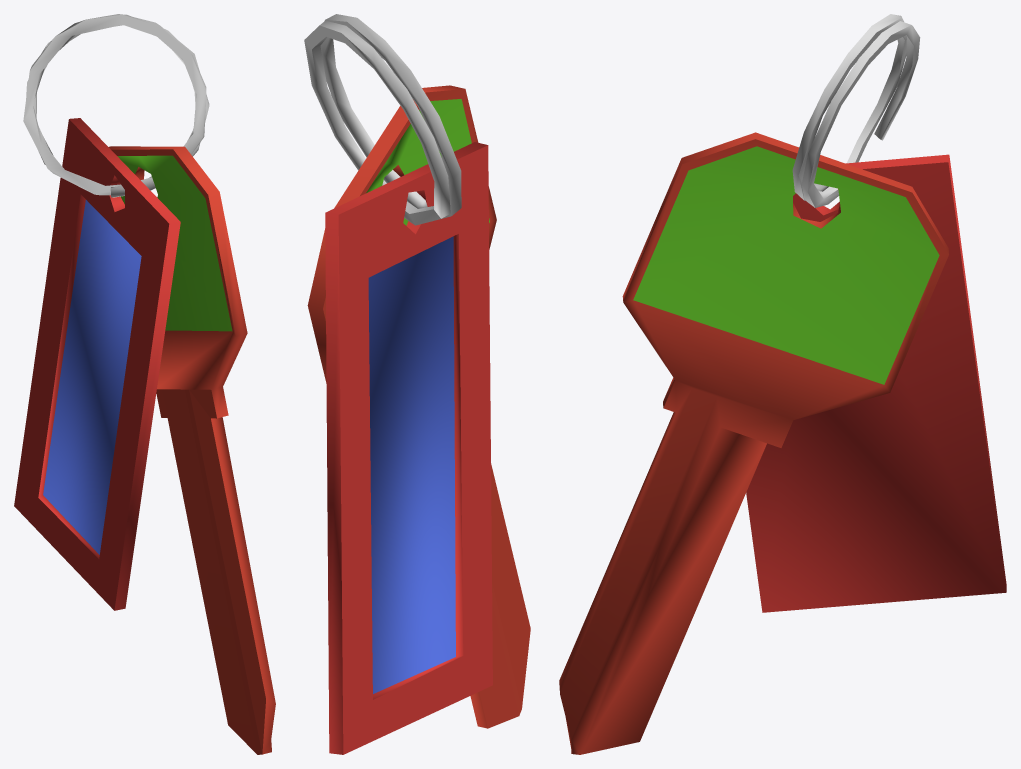
Rendered from kunci.fbx.
The picture shows the model from 3 angles, left to right: view 1: azimuth 30°, elevation 25°; view 2: azimuth 150°, elevation 25°; view 3: azimuth 270°, elevation 25°; orthographic projection. The views are drawn at different scales.
Visible parts, largest first — view 1: Kunci; view 2: Kunci; view 3: Kunci.
Part boxes in pixels (bbox=[...]): Kunci: bbox=[14, 14, 275, 754]; Kunci: bbox=[304, 14, 530, 754]; Kunci: bbox=[559, 14, 1006, 754].
Size of the model in its own units: 2.94 by 11.94 by 6.7.
